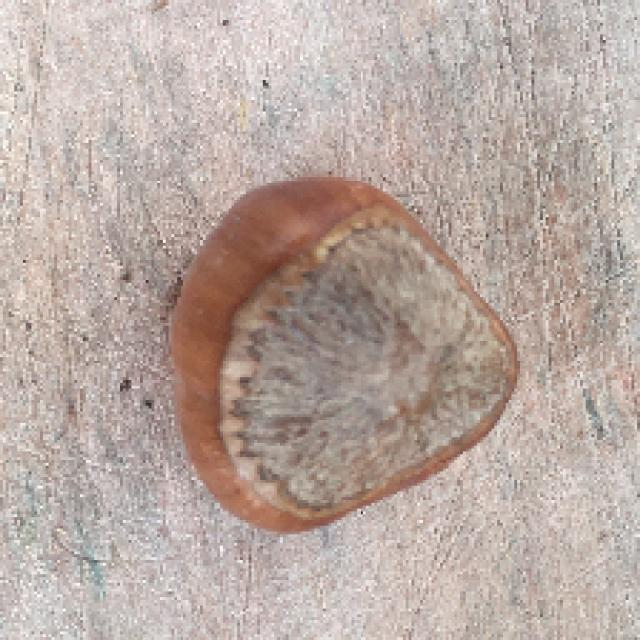qualityHazelnut: (169, 168, 530, 543)
